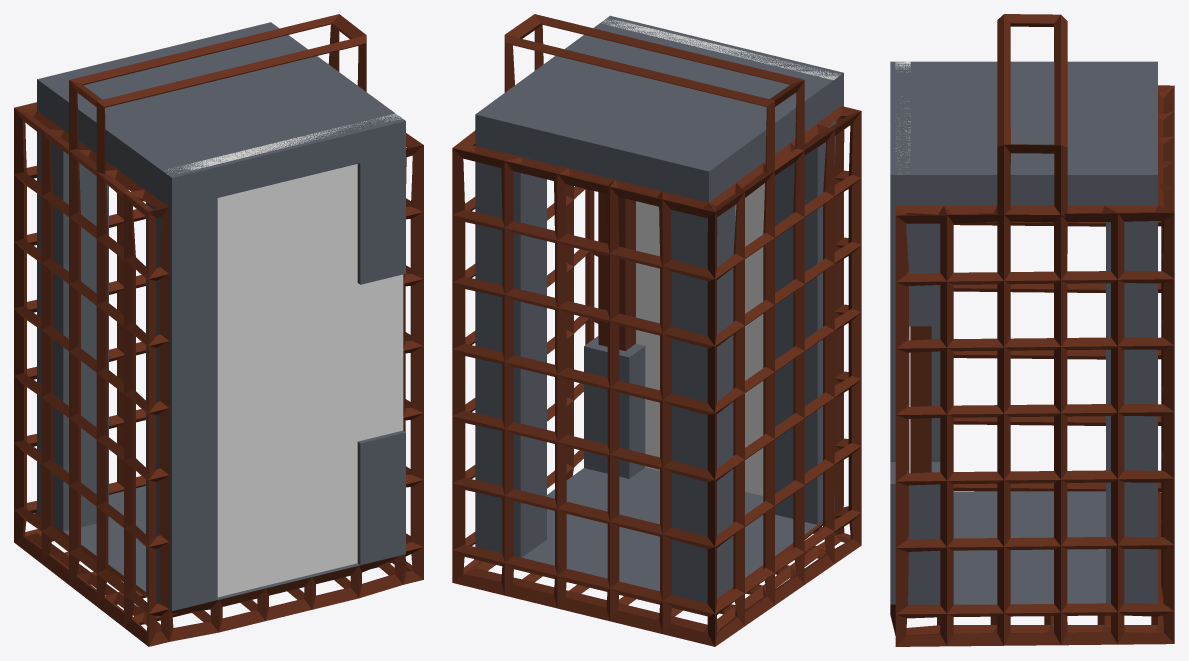
File: elevator.glb
3 views of the same model, side by side, from view 1: azimuth 30°, elevation 25°; view 2: azimuth 150°, elevation 25°; view 3: azimuth 270°, elevation 25° (orthographic).
Parts seen in each view (by area): view 1: Plane, Plane.001, Cube; view 2: Plane.001, Plane, Cube; view 3: Plane, Plane.001.
Boxes of the visible parts, x1,y1,x2,y2 form: Plane: (37,22,405,611); Plane.001: (14,14,423,646); Cube: (167,113,403,597); Plane.001: (452,14,861,646); Plane: (475,15,843,603); Cube: (602,19,840,495); Plane: (890,61,1157,604); Plane.001: (890,14,1174,646).
Bounding box in the file's own units: 2.35 × 4.13 × 2.12.
